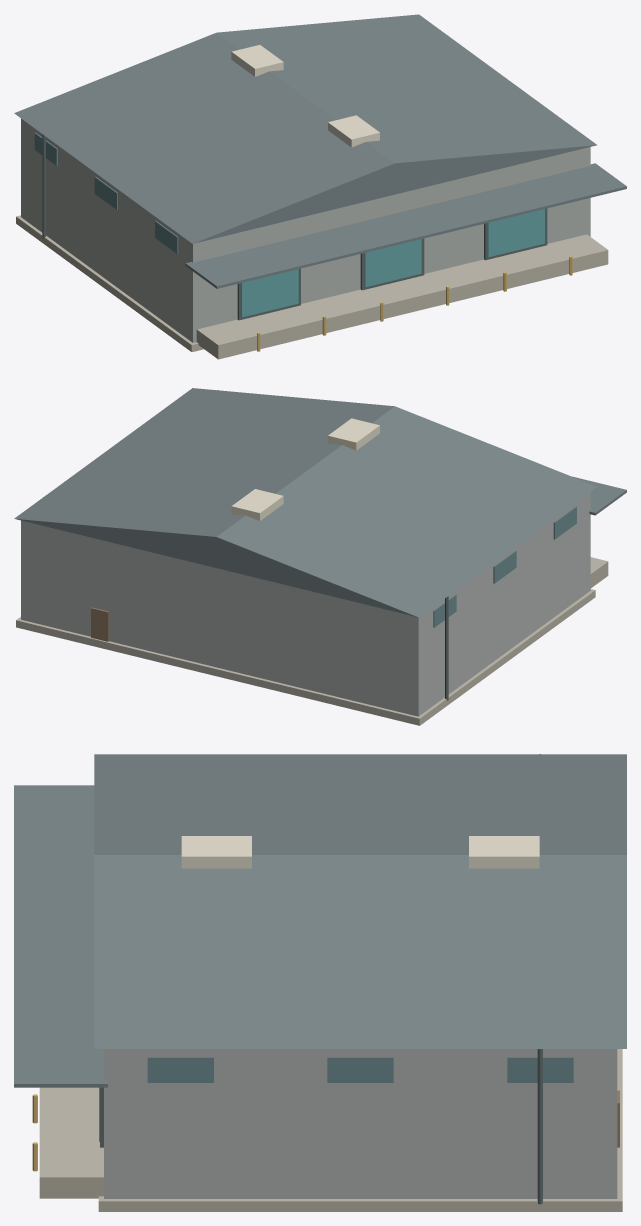
3 renders of one model, top to bottom at view 1: azimuth 30°, elevation 25°; view 2: azimuth 150°, elevation 25°; view 3: azimuth 270°, elevation 25°, orthographic. The views are drawn at different scales.
Size of the model in its own units: 33 by 11.28 by 28.65.
